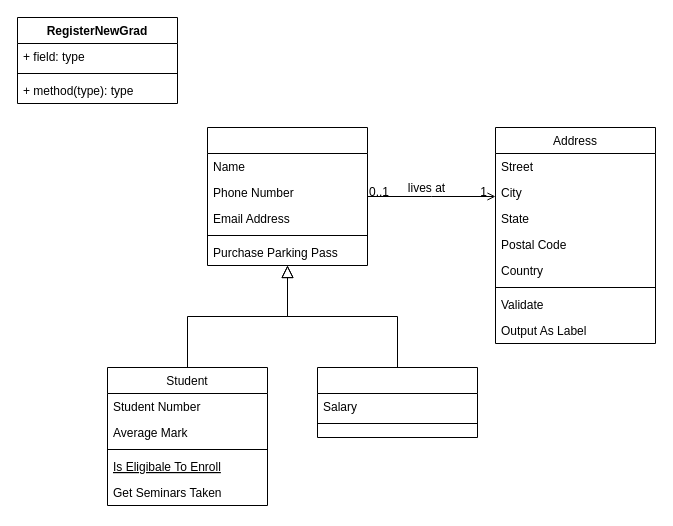
Image size: 673x526. Some labels were removed from this diagram. The shapes that lost their labels are listed below. From the top down, each one's box as (x1, y1, x2, y2) in pixels, then its label:
(206, 126, 368, 266): Person
(316, 366, 478, 438): Professor
